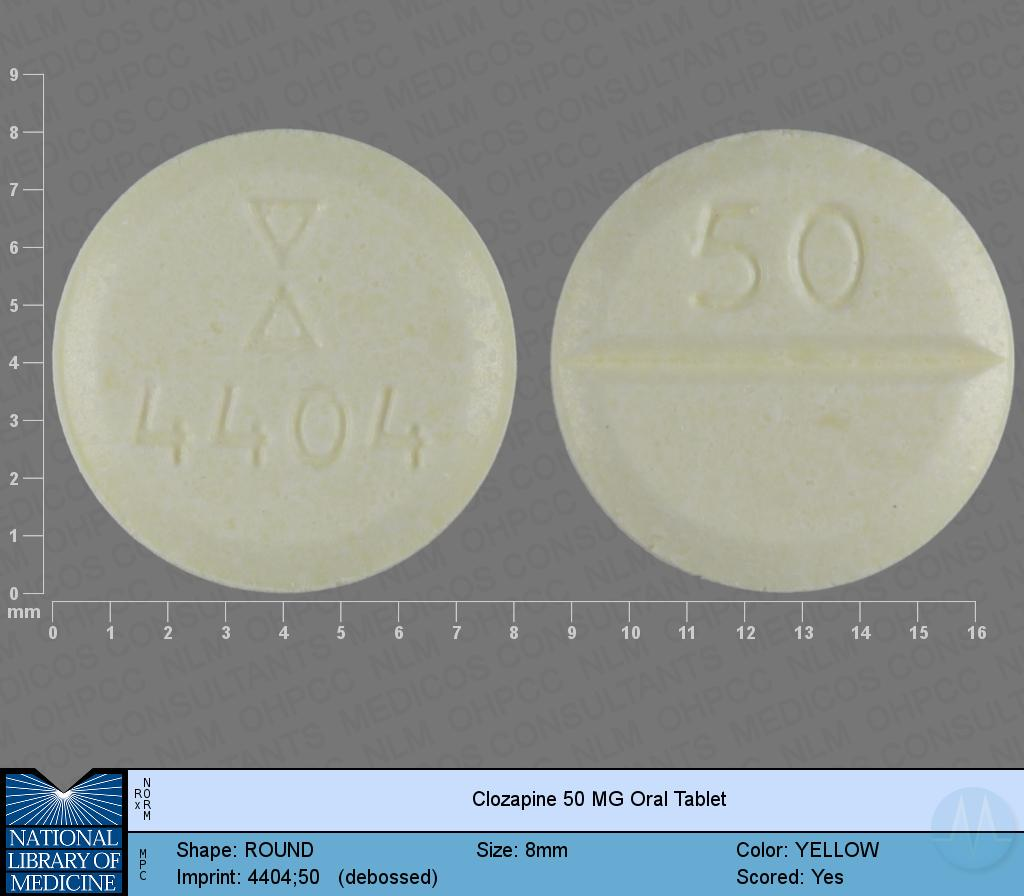Pill: (543, 117, 1024, 600), (47, 122, 527, 600)
